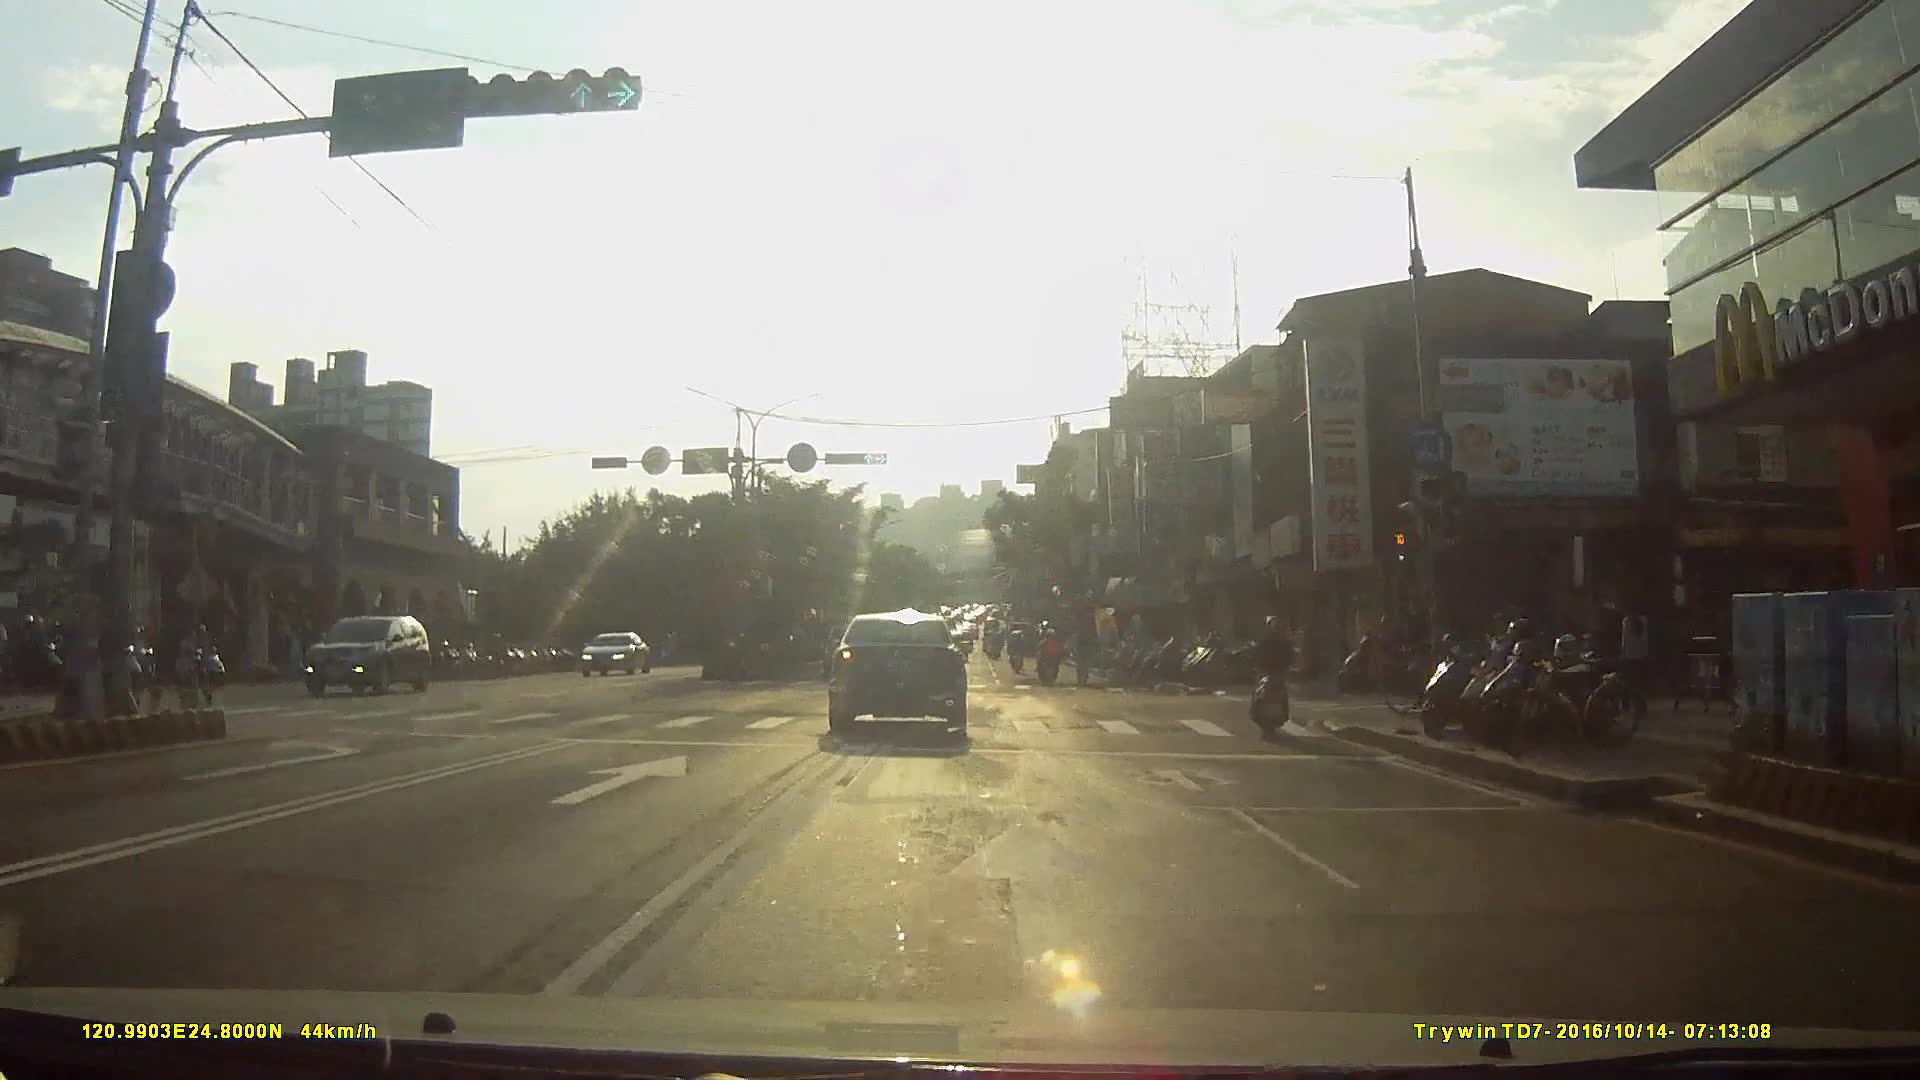pedestrian: (1618, 596, 1656, 702)
rider: (1250, 616, 1306, 738), (1, 613, 75, 686), (79, 626, 140, 693), (1036, 630, 1065, 692), (1006, 635, 1028, 680)
vehicle: (827, 609, 982, 747), (300, 615, 440, 696), (580, 632, 653, 682)
